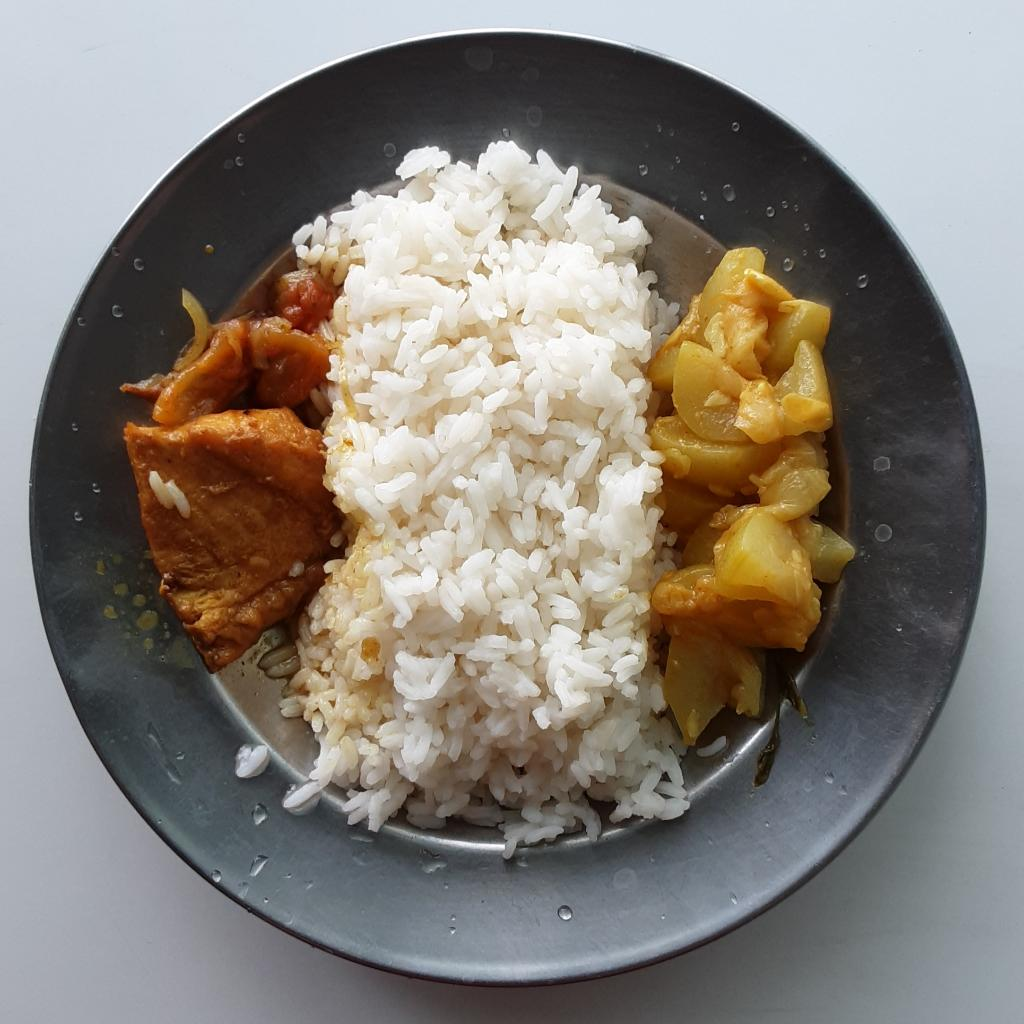fish: (124, 409, 344, 673)
lau: (649, 251, 864, 746)
rice: (251, 133, 724, 862), (156, 466, 192, 518), (235, 740, 270, 780)
tomato: (122, 275, 329, 428)
